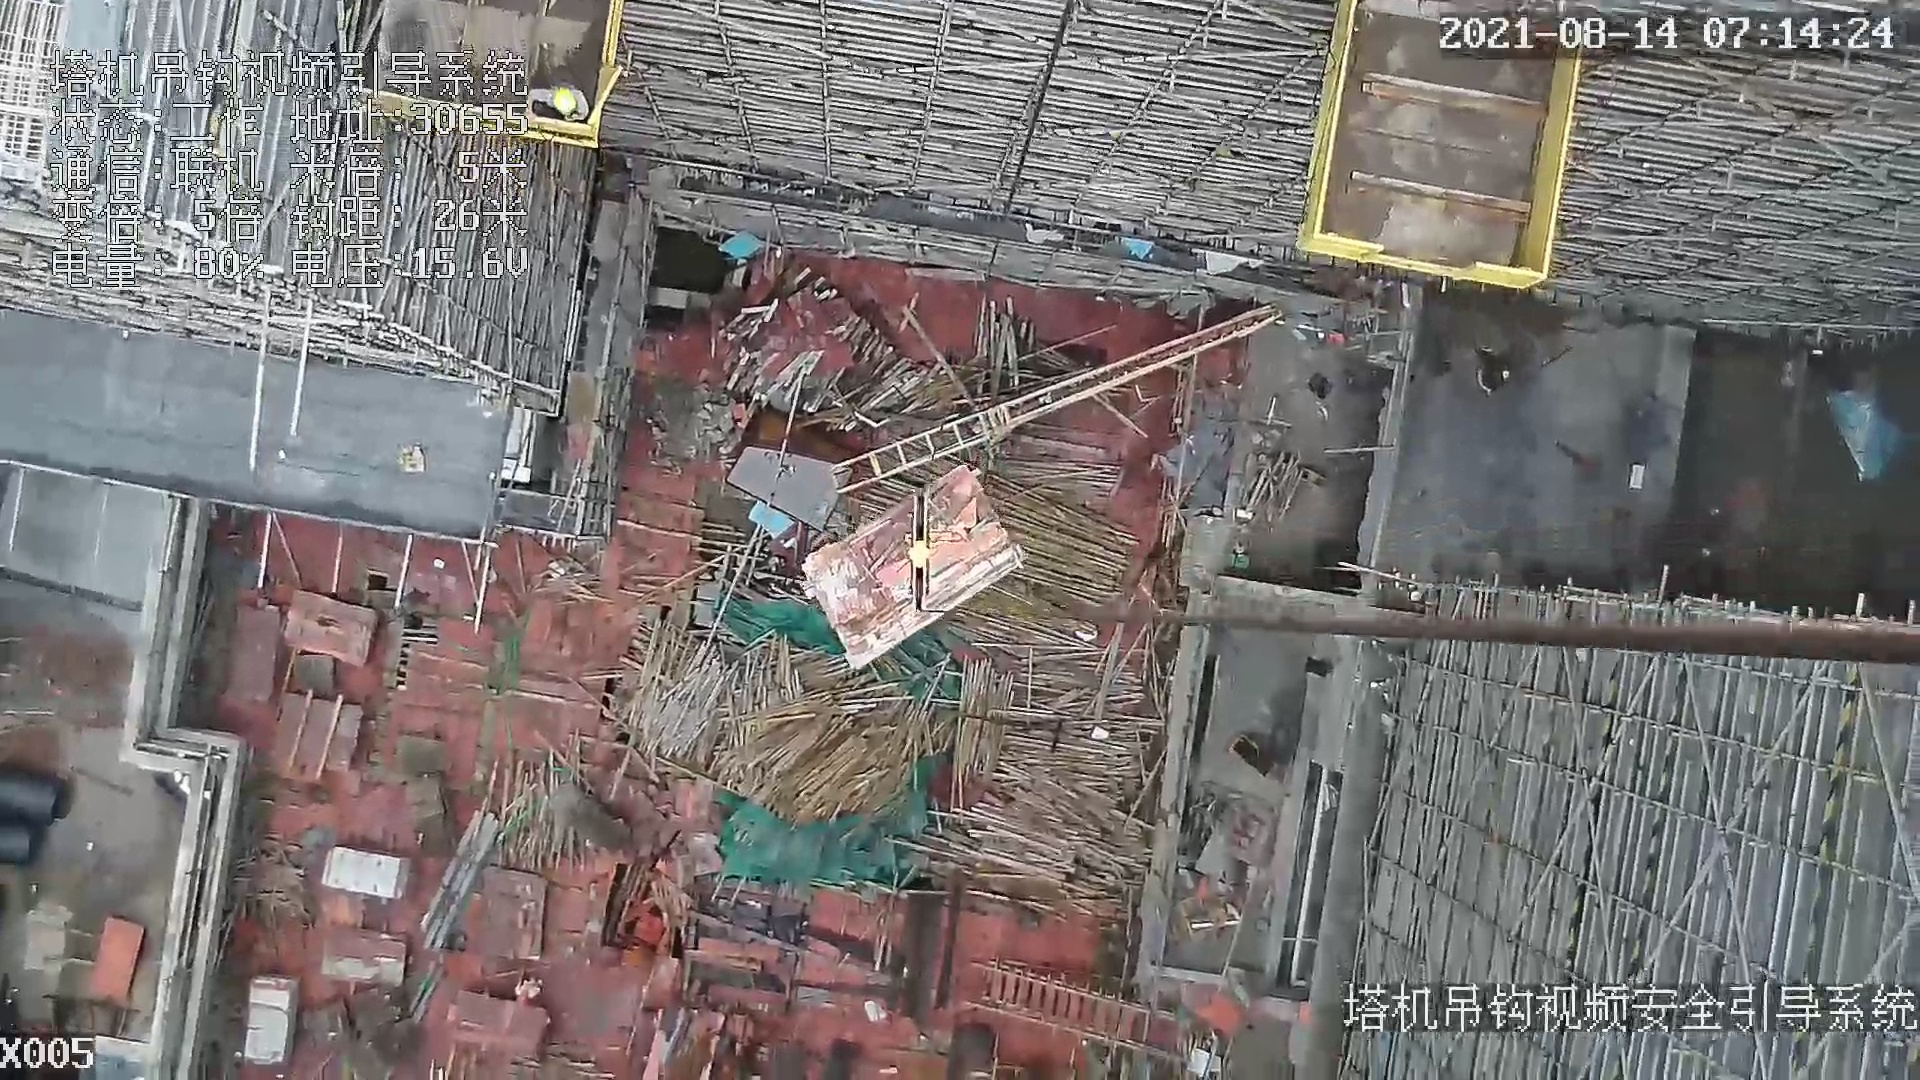helmet: (551, 83, 586, 120)
hook: (900, 486, 936, 614)
person: (528, 78, 588, 128)
